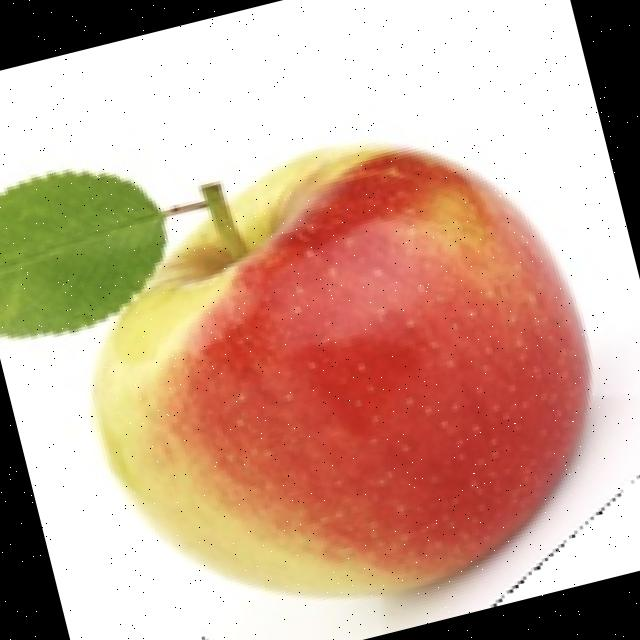apple: (0, 137, 640, 631)
